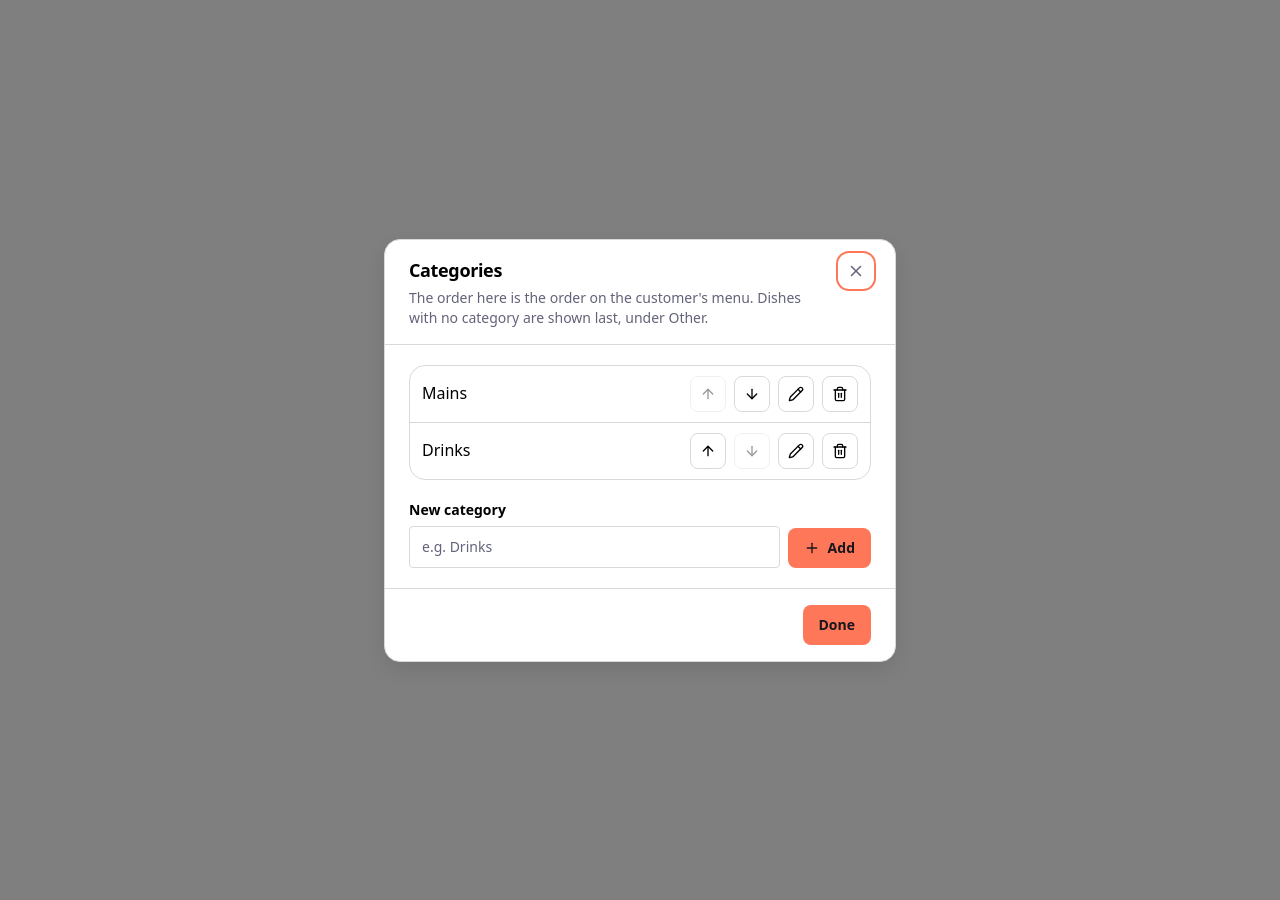
Test case: managing categories › deleting asks first, and says the dishes move to Other
Later steps or results of the test are not shown.
What coordinates should you click on to do the following:
click the button named "Delete Drinks"
I would click on:
 (840, 450)
Its box is [822,432,858,468].
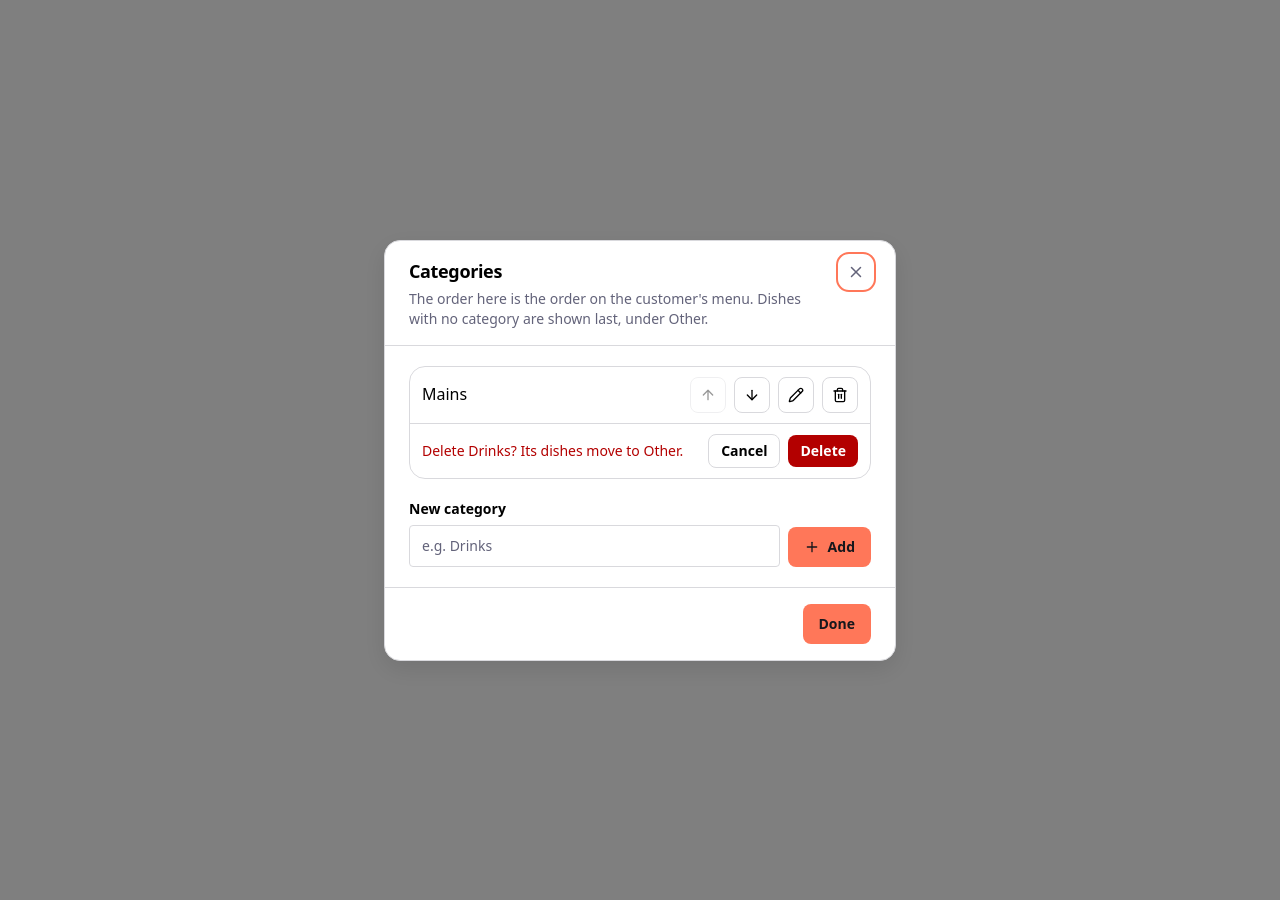
expect the text "Delete Drinks? Its dishes move to Other." is shown: met, box [422,440,683,460]
